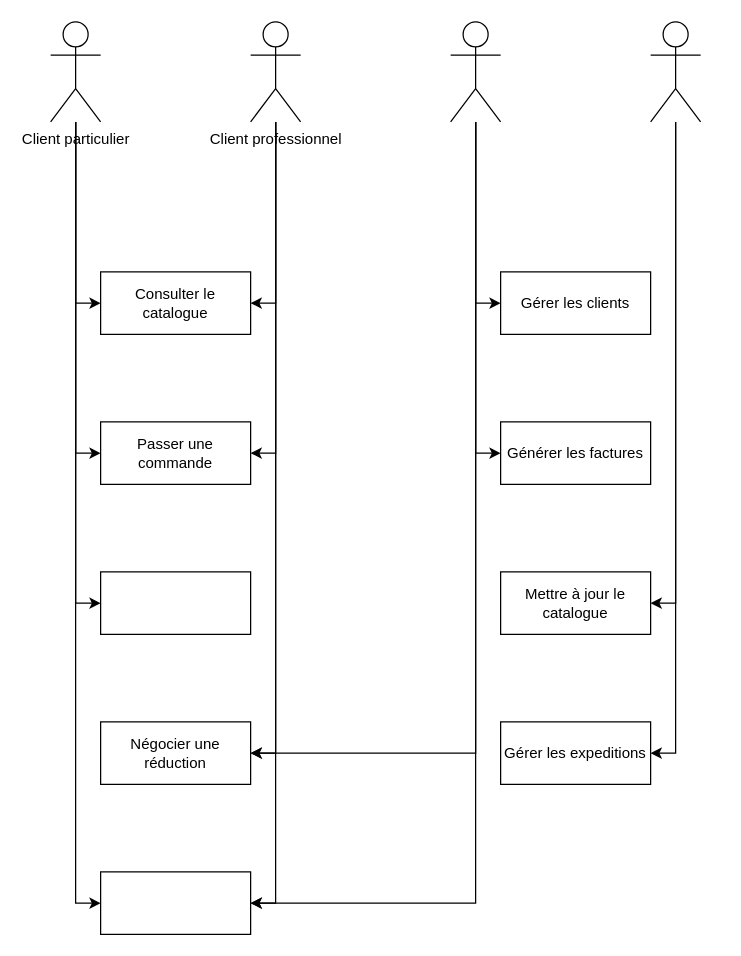
Some shapes in this 741 by 956 pixel diagram are drawn without their labels. Each missing label, with the centre of its shape:
Commercial: pixel 475 71
Effectuer un paiement: pixel 175 602
Gestionnaire catalogue: pixel 675 71
Gérer les commandes: pixel 175 902
